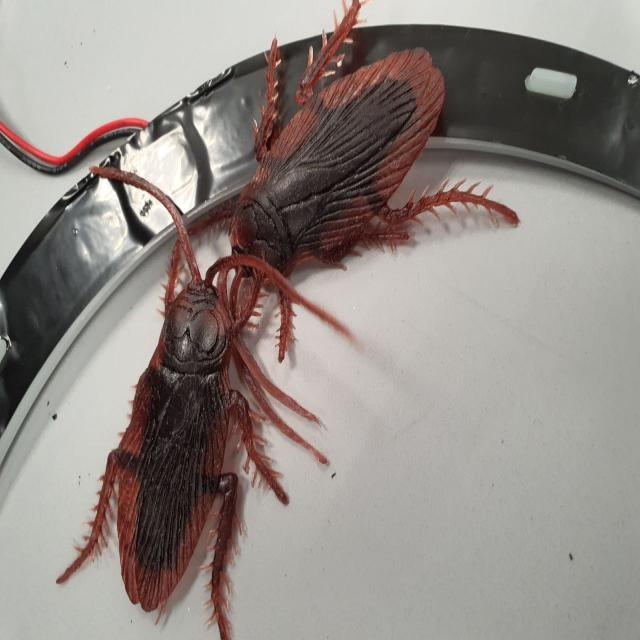Cockroach: (52, 146, 348, 632), (174, 0, 520, 368)
